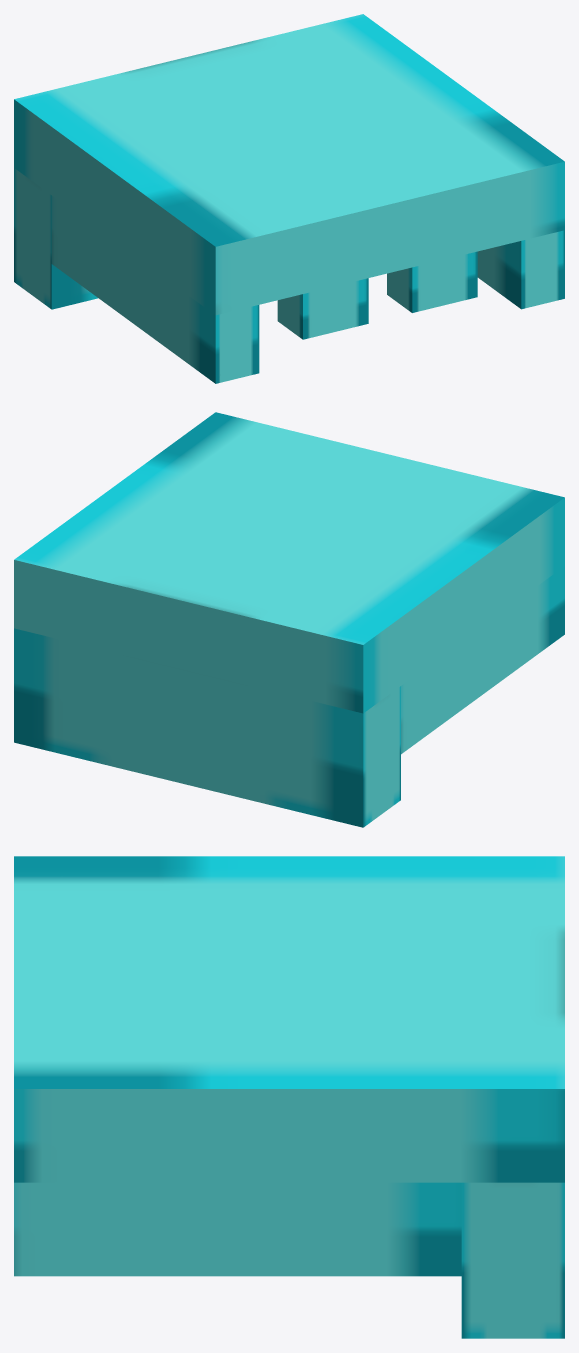
The model's file is helmet.obj.
3 views of the same model, one above another, from view 1: azimuth 30°, elevation 25°; view 2: azimuth 150°, elevation 25°; view 3: azimuth 270°, elevation 25° (orthographic). The views are drawn at different scales.
Visible parts, largest first — view 1: cube; view 2: cube; view 3: cube.
Part boxes in pixels (<box>): cube: <box>14,14,564,383</box>; cube: <box>14,412,564,827</box>; cube: <box>14,856,564,1338</box>.
Size of the model in its own units: 1 by 0.5 by 1.
1 material, 1 textured.
